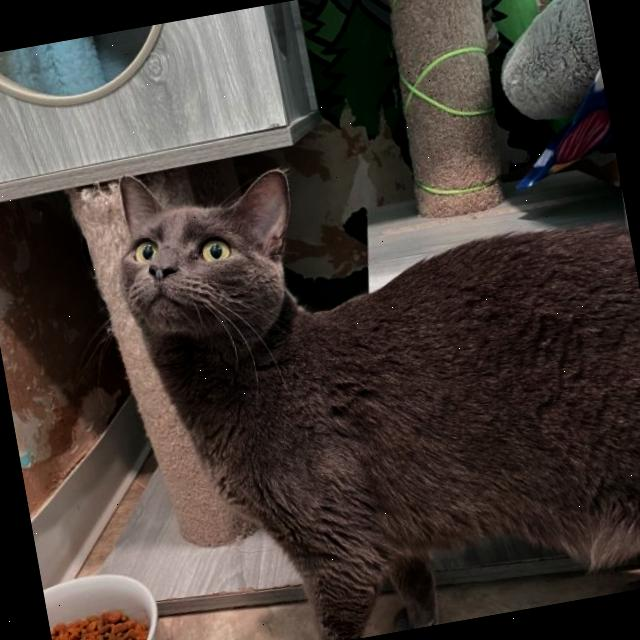russian_blue_cat: (82, 133, 344, 404)
